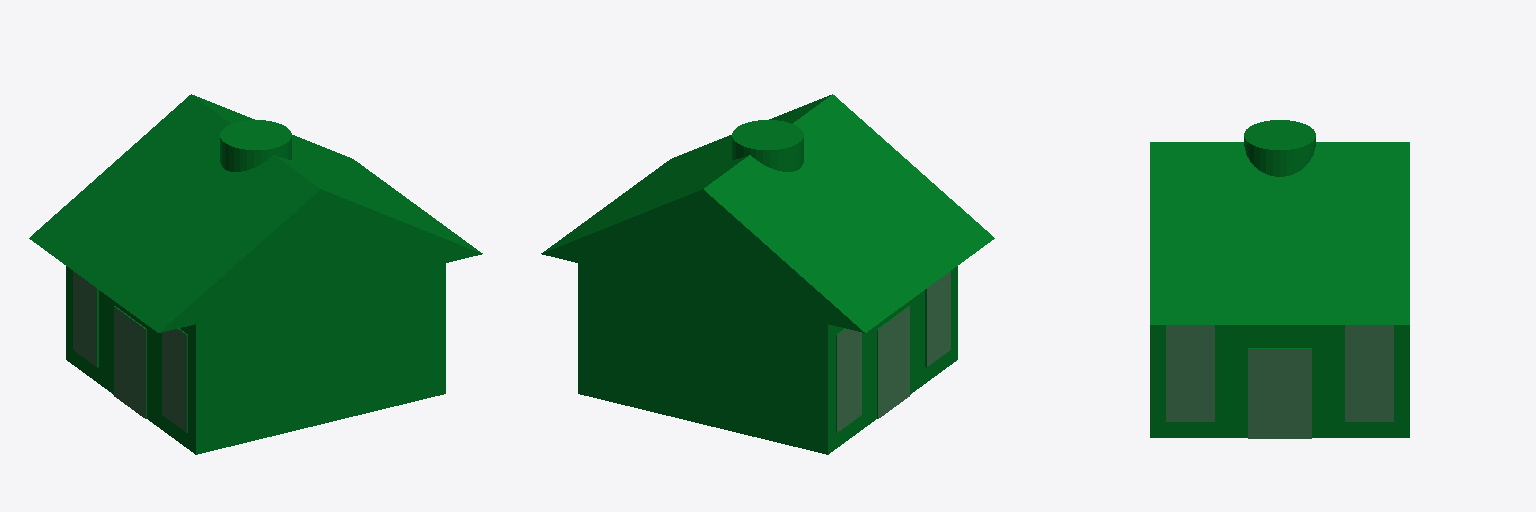
Rendered from house.obj.
3 views of the same model, side by side, from view 1: azimuth 30°, elevation 25°; view 2: azimuth 150°, elevation 25°; view 3: azimuth 270°, elevation 25° (orthographic).
Visible parts, largest first — view 1: Cube_Cube.001; view 2: Cube_Cube.001; view 3: Cube_Cube.001.
Part boxes in pixels (x1,y1,x2,y2): Cube_Cube.001: (29,94,482,454); Cube_Cube.001: (541,94,994,454); Cube_Cube.001: (1150,120,1409,438).
Bounding box in the file's own units: 2.6 × 1.85 × 1.8.